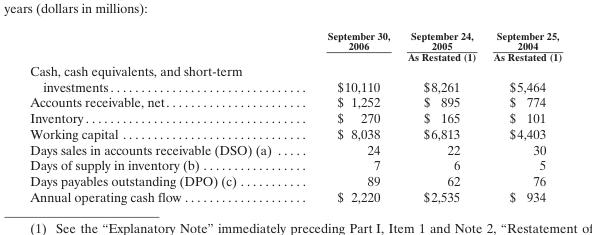table: (29, 29, 561, 204)
table column: (29, 29, 298, 204), (298, 29, 398, 204), (398, 29, 484, 204), (484, 29, 561, 204)
table column header: (29, 29, 561, 62)
table row: (29, 29, 561, 62), (29, 62, 561, 93), (29, 93, 561, 109), (29, 109, 561, 125), (29, 125, 561, 141), (29, 156, 561, 172), (29, 172, 561, 188), (29, 188, 561, 204), (29, 141, 561, 156)
